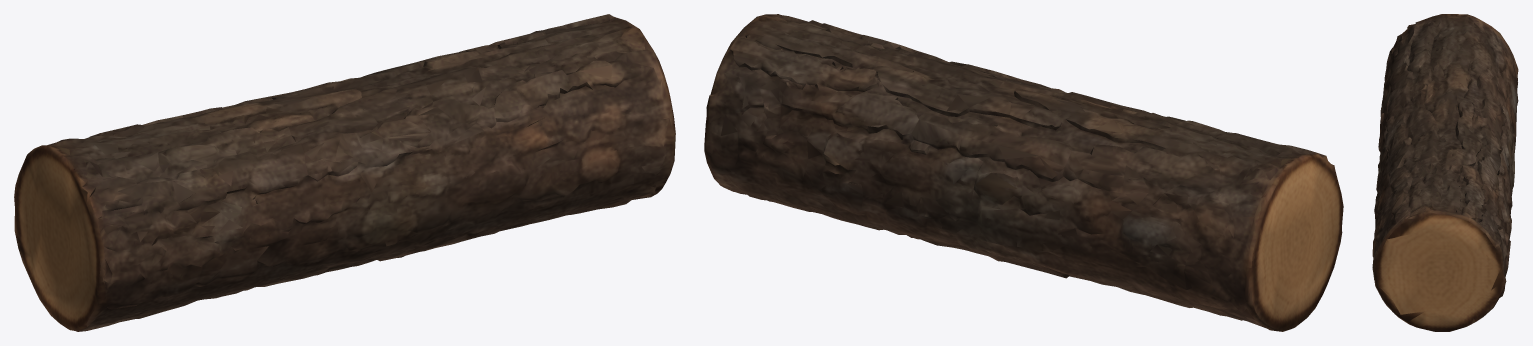
3 views of the same model, side by side, from view 1: azimuth 30°, elevation 25°; view 2: azimuth 150°, elevation 25°; view 3: azimuth 270°, elevation 25° (orthographic). The views are drawn at different scales.
Parts seen in each view (by area): view 1: firewood-log.001; view 2: firewood-log.001; view 3: firewood-log.001.
Part boxes in pixels (bbox=[...]): firewood-log.001: bbox=[14, 14, 675, 331]; firewood-log.001: bbox=[704, 14, 1343, 331]; firewood-log.001: bbox=[1372, 14, 1518, 331].
Bounding box in the file's own units: 1.2 × 0.3452 × 0.3703.
Materials: 1 (1 with a texture image).
